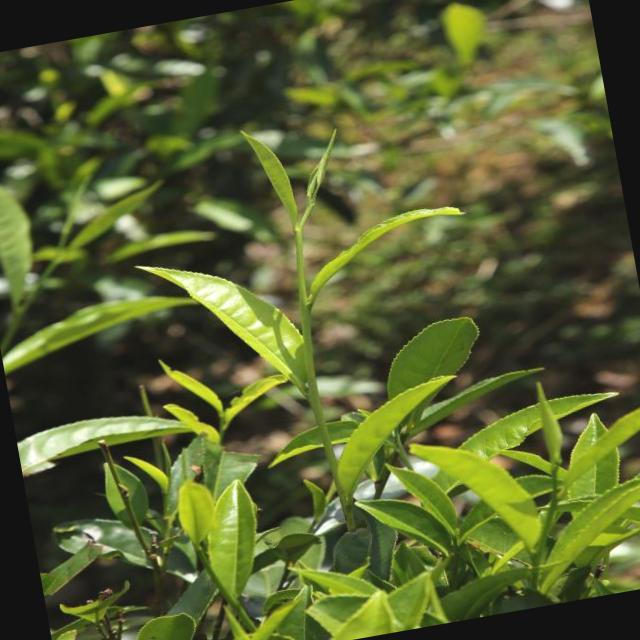Stem: (294, 228, 303, 243), (551, 498, 558, 506)
